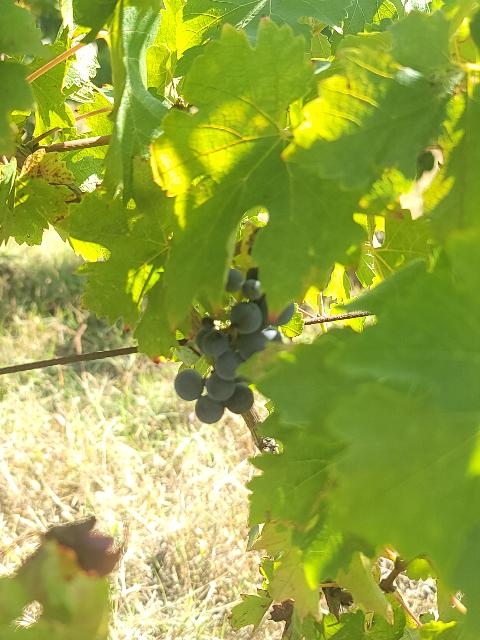grapes: (175, 268, 295, 424)
